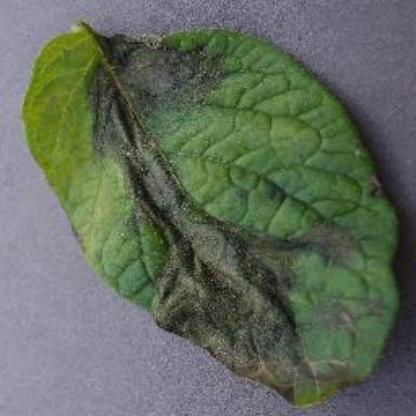Late-Blight: (20, 13, 406, 408)
